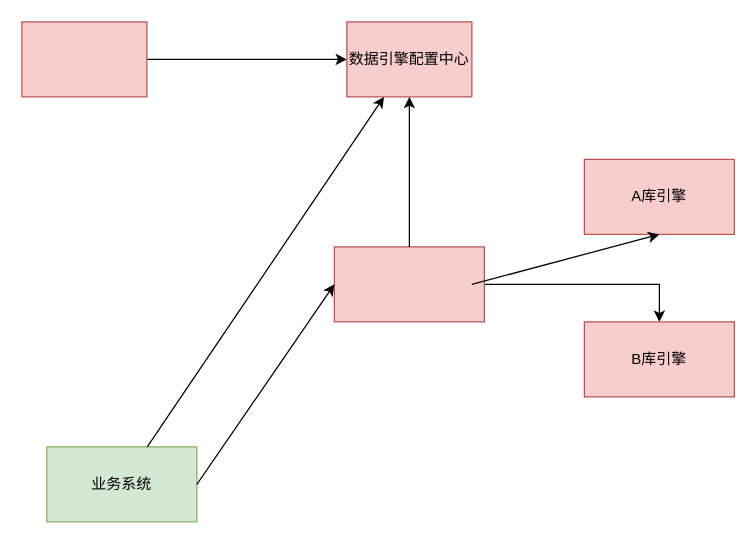
Image size: 756x544. Some labels were removed from this diagram. Here are the shapes that lost their labels. From the top down, the centre of each, then its label:
At (84,59): "控制台UI".
At (408,284): "数据引擎（API网关）".
